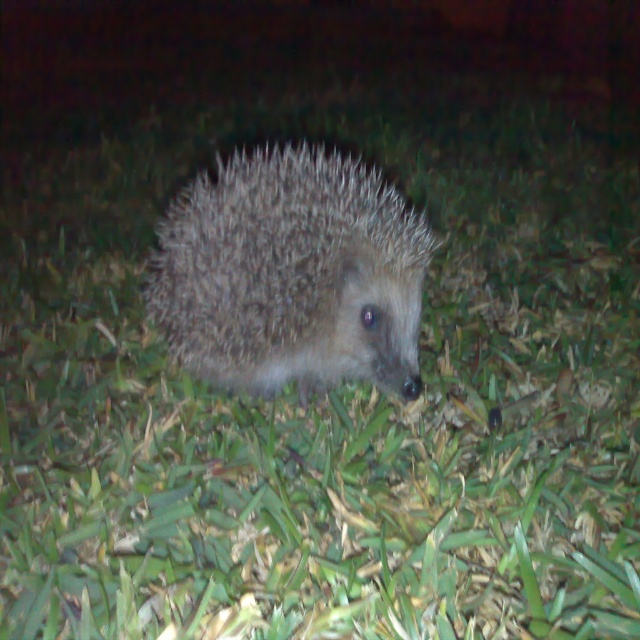Hedgehog: (143, 138, 445, 408)
